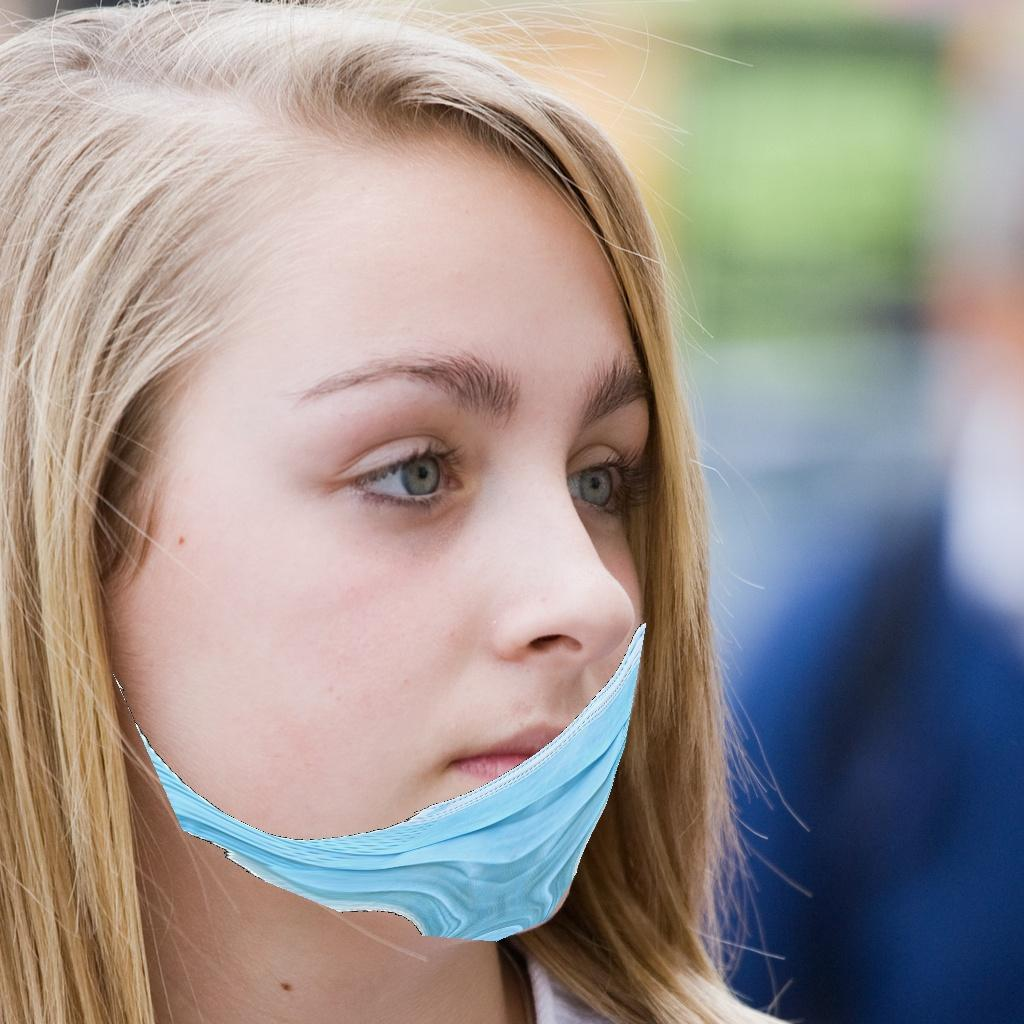Máscara Incorreta: (225, 355, 671, 939)
